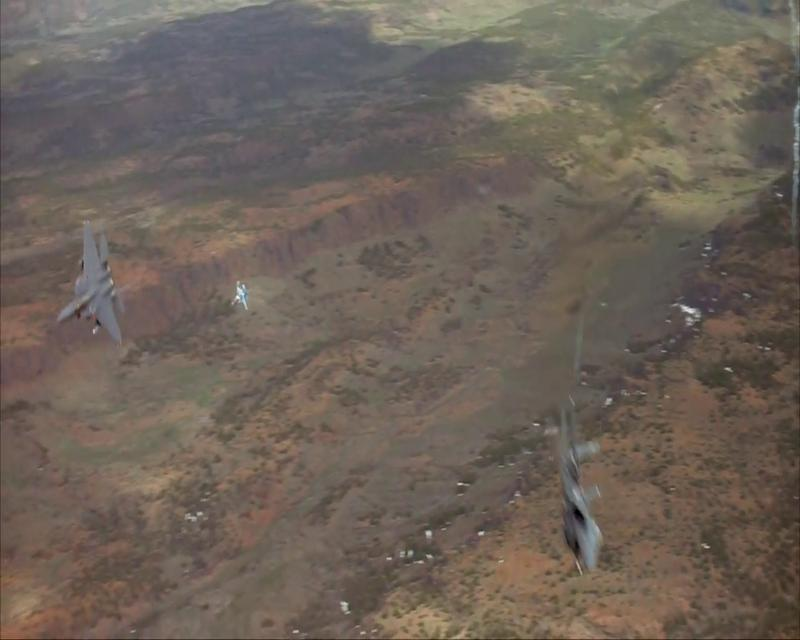UAV: (550, 397, 604, 576), (55, 219, 125, 347), (228, 279, 253, 310)
